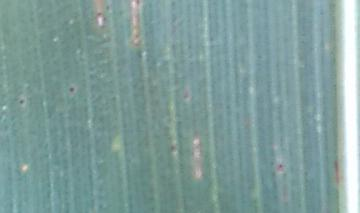tarspot: (271, 162, 286, 178), (166, 142, 179, 155), (66, 84, 78, 96), (15, 97, 28, 108)
